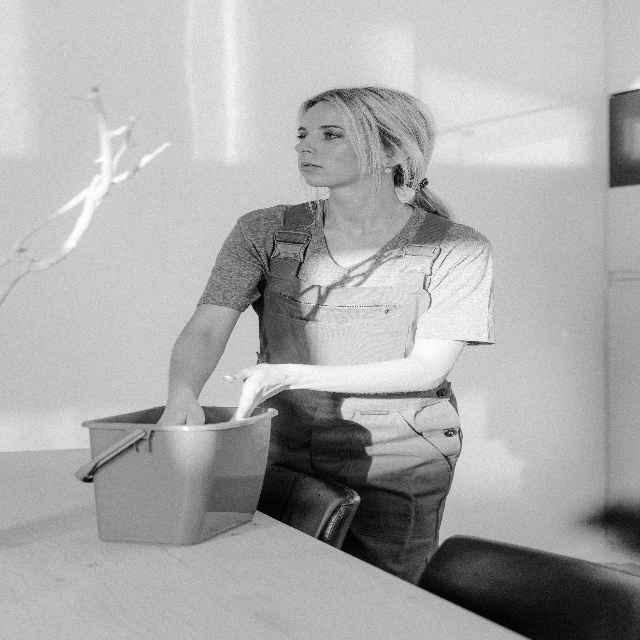Sin_guantes: (223, 362, 273, 421), (157, 395, 206, 426)
